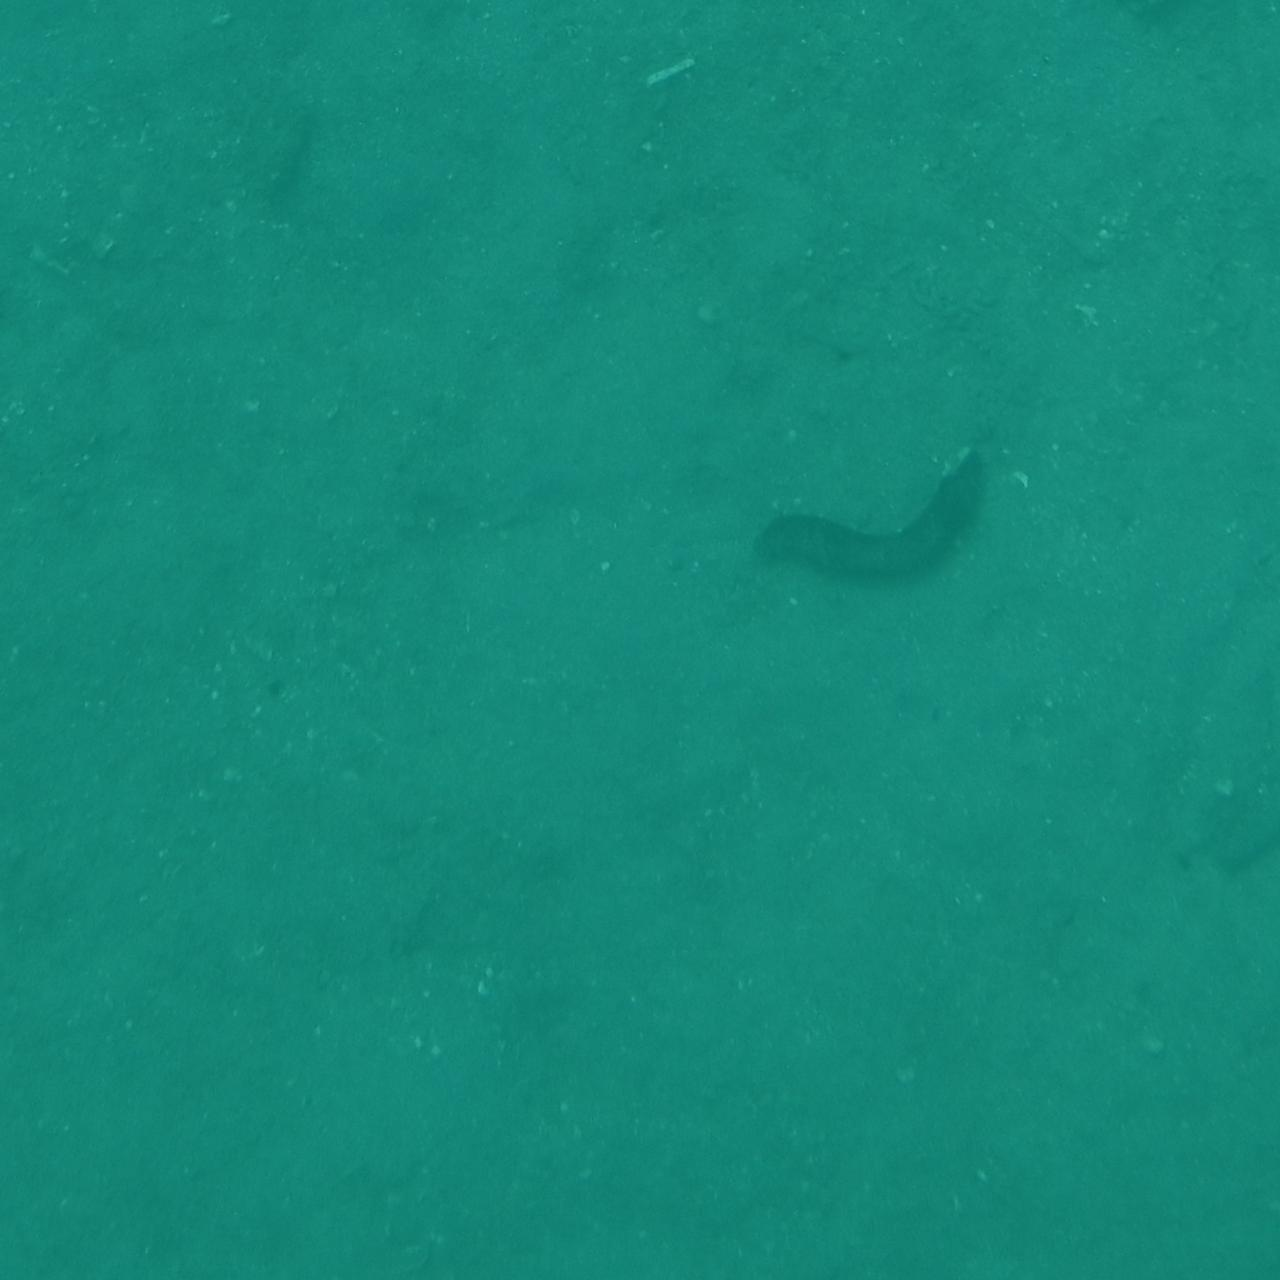Holothuria tubulosa: (747, 421, 1001, 599), (0, 952, 132, 1162), (1169, 50, 1280, 266), (1177, 859, 1280, 1091), (1221, 606, 1280, 998), (340, 0, 558, 102), (175, 1092, 287, 1280), (1205, 648, 1280, 880), (0, 0, 91, 138), (0, 676, 38, 1009), (0, 656, 56, 872), (0, 0, 66, 150), (0, 1219, 129, 1280), (1217, 1167, 1280, 1280), (1164, 1220, 1280, 1280), (0, 0, 91, 60)
